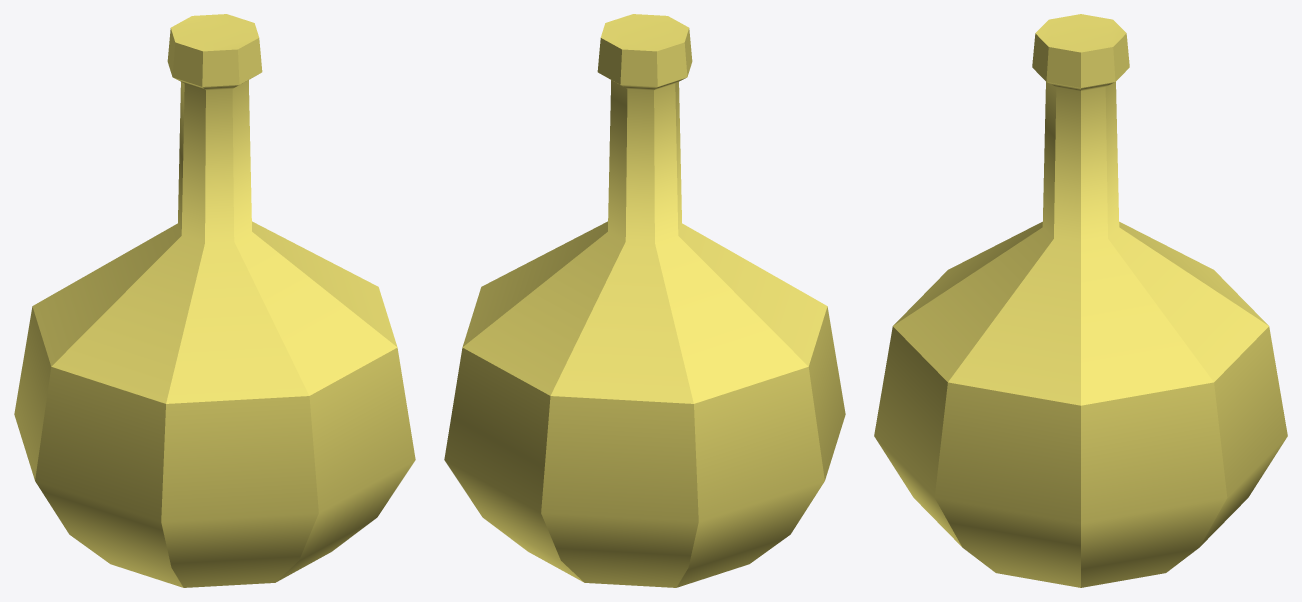
Rendered from Poition_bottle.fbx.
3 views of the same model, side by side, from view 1: azimuth 30°, elevation 25°; view 2: azimuth 150°, elevation 25°; view 3: azimuth 270°, elevation 25° (orthographic).
Visible parts, largest first — view 1: Potion_Bottle; view 2: Potion_Bottle; view 3: Potion_Bottle.
Boxes of the visible parts, bbox=[...] form: Potion_Bottle: bbox=[14, 14, 415, 587]; Potion_Bottle: bbox=[444, 14, 845, 587]; Potion_Bottle: bbox=[874, 14, 1287, 587].
Bounding box in the file's own units: 1.13 × 1.52 × 1.13.
